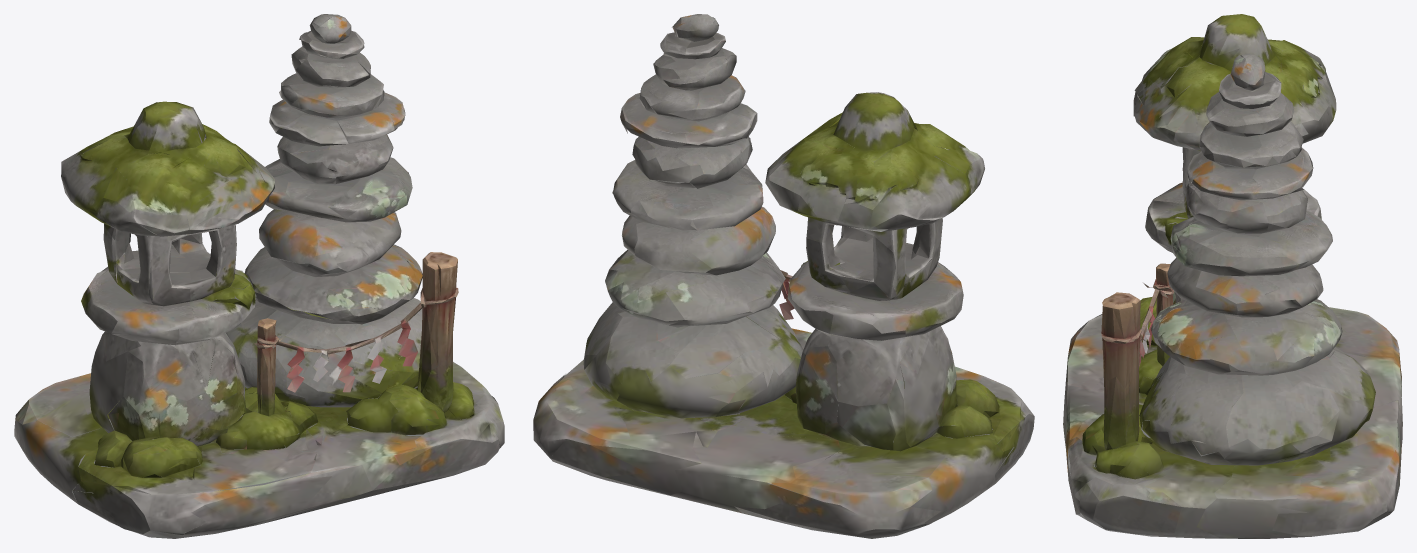
Rendered from east_cairn.glb.
3 views of the same model, side by side, from view 1: azimuth 30°, elevation 25°; view 2: azimuth 150°, elevation 25°; view 3: azimuth 270°, elevation 25° (orthographic). The views are drawn at different scales.
Visible parts, largest first — view 1: Mesh_0; view 2: Mesh_0; view 3: Mesh_0.
Part boxes in pixels (x1,y1,x2,y2): Mesh_0: (14,14,504,538); Mesh_0: (533,14,1034,538); Mesh_0: (1063,14,1402,538).
Size of the model in its own units: 2.8 by 2.8 by 2.02.
Materials: 1 (1 with a texture image).
